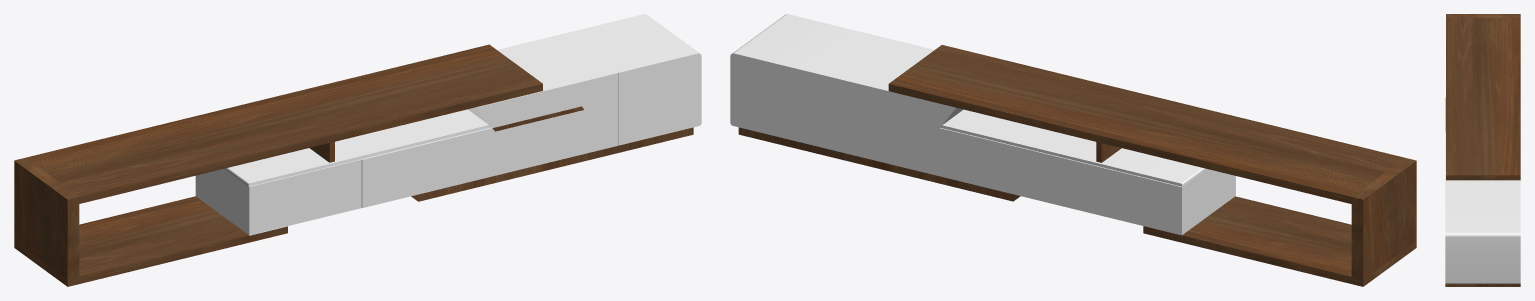
Rendered from tvtable.glb.
3 views of the same model, side by side, from view 1: azimuth 30°, elevation 25°; view 2: azimuth 150°, elevation 25°; view 3: azimuth 270°, elevation 25° (orthographic). The views are drawn at different scales.
Parts seen in each view (by area): view 1: Cube.002, Cube.003, Cube, Cube.007, Cube.008, Cube.006, Cube.001, Cube.004; view 2: Cube.003, Cube.002, Cube, Cube.001, Cube.004; view 3: Cube.002, Cube.003, Cube.001, Cube.004, Cube.006.
Boxes of the visible parts, <box> form: Cube.002: <box>26,44,542,203</box>; Cube.003: <box>195,14,698,235</box>; Cube: <box>14,196,287,286</box>; Cube.007: <box>475,72,618,168</box>; Cube.008: <box>362,128,523,207</box>; Cube.006: <box>618,53,701,145</box>; Cube.001: <box>14,157,79,279</box>; Cube.004: <box>411,127,693,201</box>; Cube.003: <box>730,14,1235,235</box>; Cube.002: <box>888,45,1404,203</box>; Cube: <box>1143,196,1416,286</box>; Cube.001: <box>1351,158,1416,279</box>; Cube.004: <box>738,127,1020,201</box>; Cube.002: <box>1446,18,1520,180</box>; Cube.003: <box>1446,180,1520,283</box>; Cube.001: <box>1446,14,1520,17</box>; Cube.004: <box>1445,284,1520,286</box>; Cube.006: <box>1445,206,1445,283</box>.
Size of what is drawn, in the model's own units: 2.73 by 0.36 by 0.4031.
2 materials, 1 textured.
